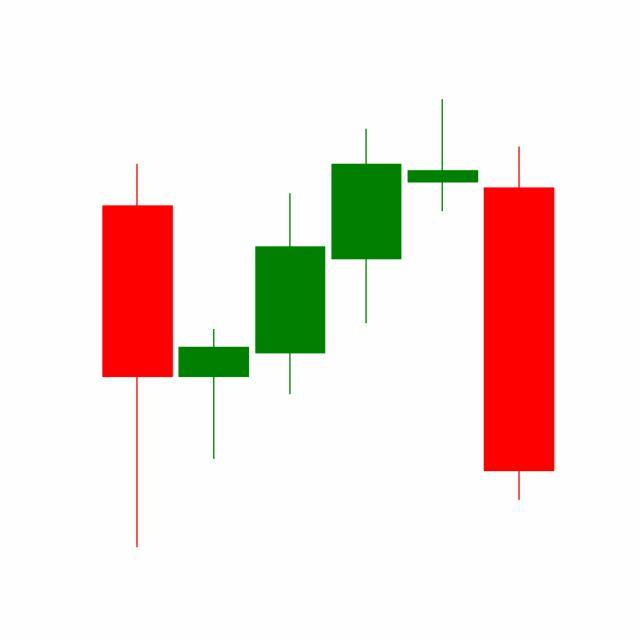Hikkake Pattern: (175, 99, 555, 505)
